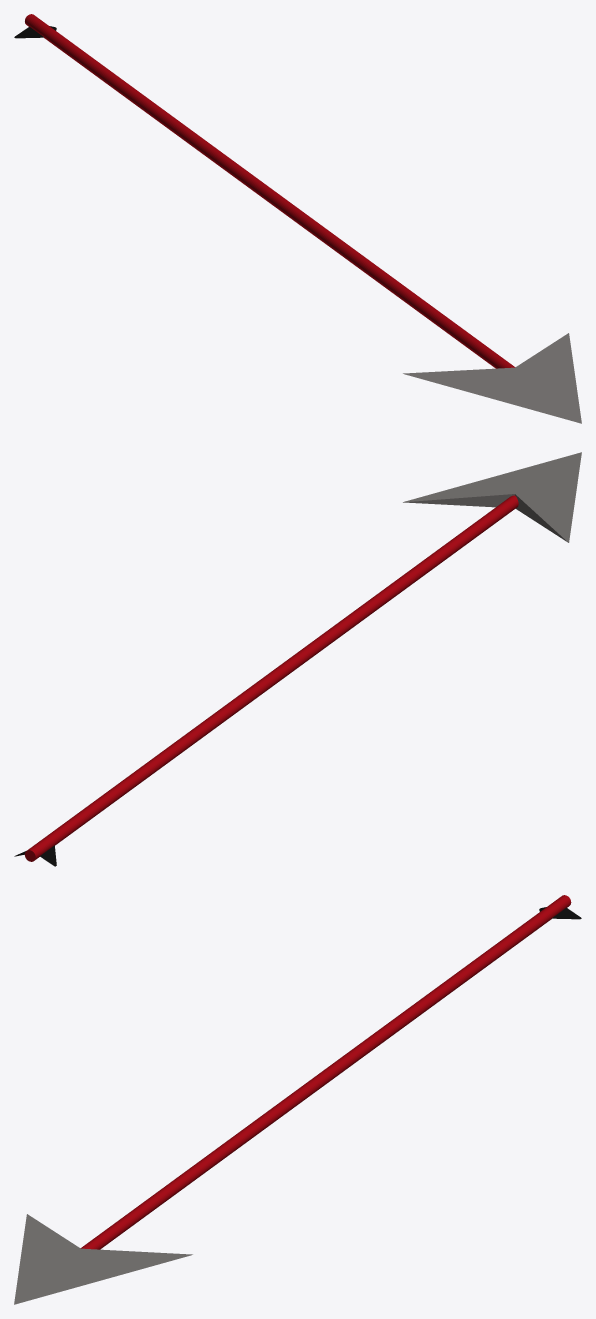
Rendered from arrow.glb.
3 renders of one model, top to bottom at view 1: azimuth 30°, elevation 25°; view 2: azimuth 150°, elevation 25°; view 3: azimuth 330°, elevation 25°, orthographic.
Visible parts, largest first — view 1: Cylinder, Cube; view 2: Cylinder, Cube; view 3: Cylinder, Cube.
Part boxes in pixels (x1,y1,x2,y2): Cylinder: (25, 14, 515, 368); Cube: (403, 333, 581, 423); Cylinder: (24, 495, 518, 861); Cube: (403, 452, 581, 542); Cylinder: (80, 895, 571, 1249); Cube: (14, 1214, 192, 1304).
Size of the model in its own units: 2 by 0.185 by 11.43.
